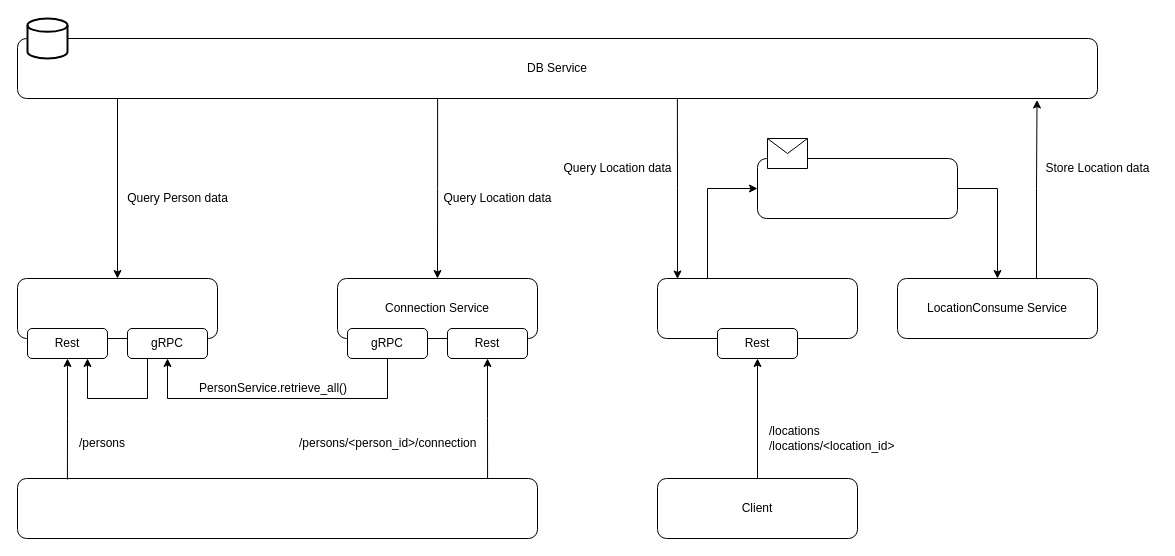
Image size: 1175x556. Some labels were removed from this diagram. Here are the shapes that lost their labels. From the top down, the box of each, then its label:
(26, 17, 68, 59): DB
(756, 158, 958, 218): Kafka Service
(16, 278, 218, 338): Person Service
(656, 278, 858, 338): LocationProcess Service
(16, 478, 538, 538): Frontend
